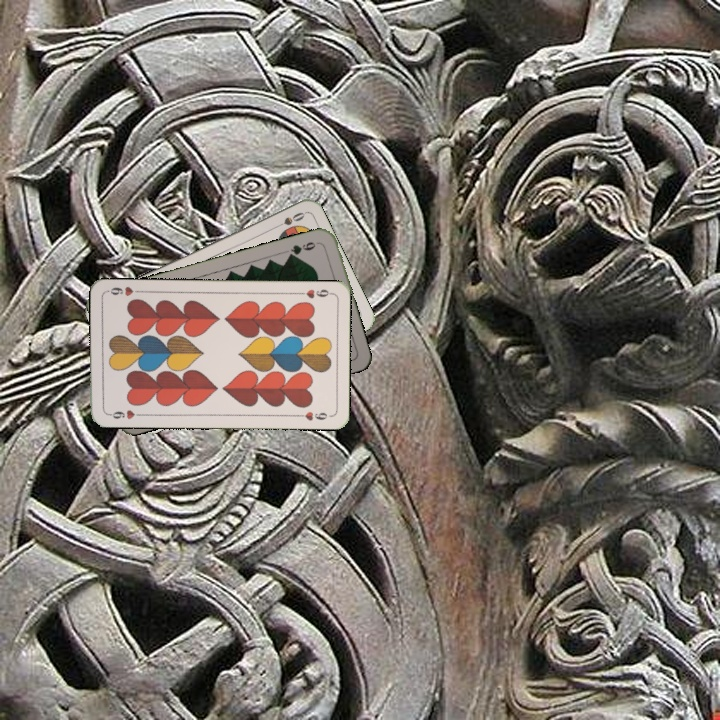G9: (284, 238, 322, 261)
H9: (294, 285, 334, 301), (104, 406, 144, 422)
SO: (269, 208, 308, 232)
